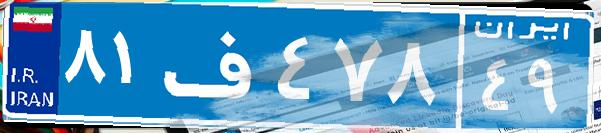1: (110, 28, 158, 105)
4: (273, 28, 330, 110), (475, 38, 525, 113)
7: (330, 28, 385, 110)
8: (385, 28, 445, 110), (57, 26, 110, 107)
9: (525, 38, 570, 115)
ف: (158, 15, 273, 115)
